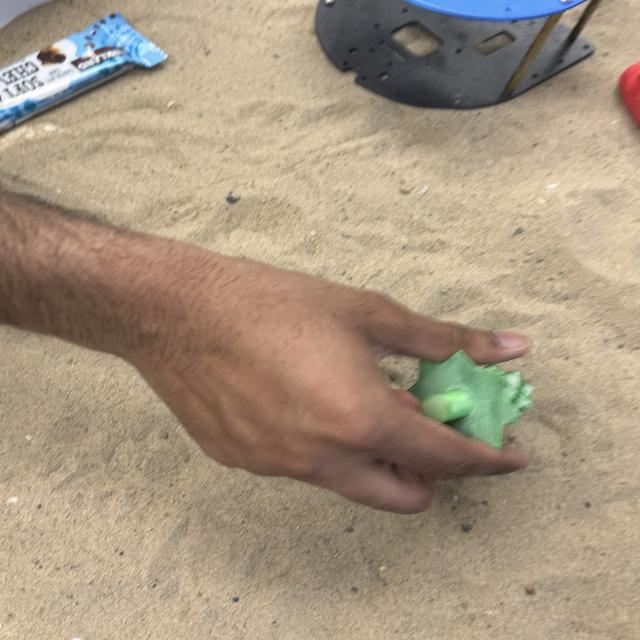tree: (404, 348, 535, 451)
